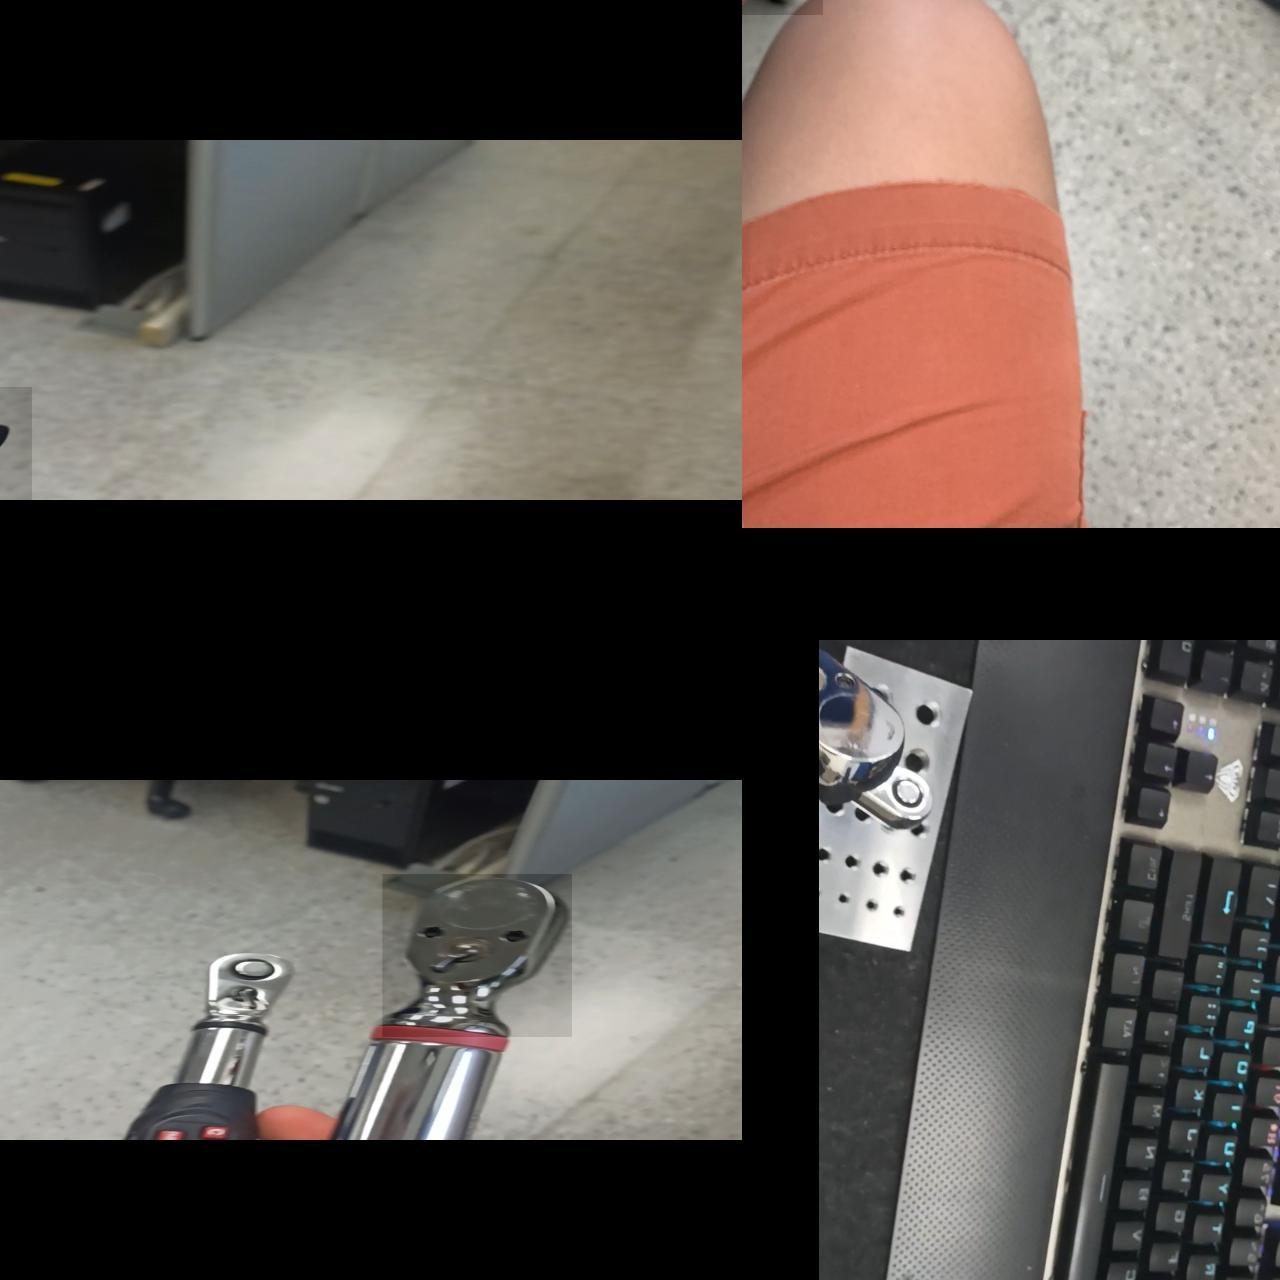Tool: (381, 874, 571, 1037), (192, 951, 300, 1028)
